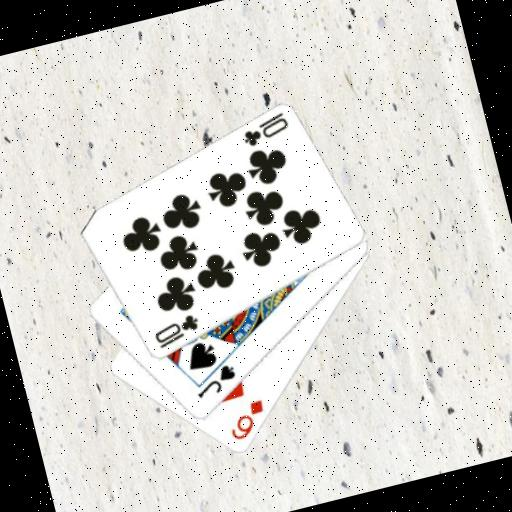10C: (236, 109, 293, 151), (149, 310, 205, 352)
6D: (222, 396, 272, 444)
JS: (188, 360, 241, 402)
